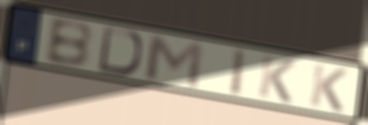B: (42, 17, 95, 70)
D: (95, 25, 144, 77)
I: (229, 46, 248, 98)
K: (307, 61, 350, 115), (256, 52, 299, 106)
M: (144, 31, 206, 91)
